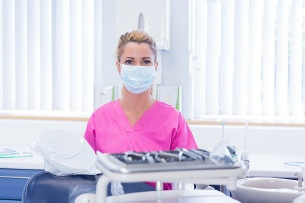Mask: (117, 55, 156, 93)
